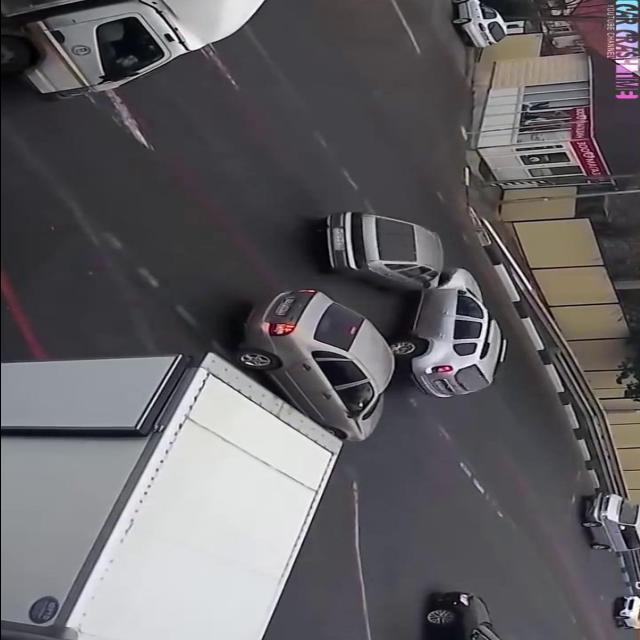accident: (313, 204, 511, 402)
